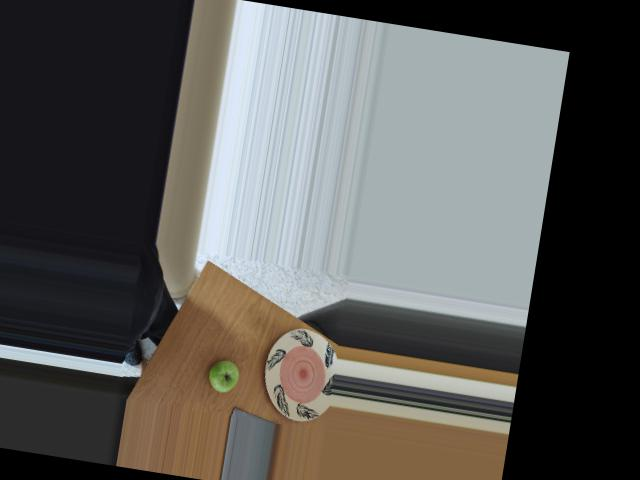apple: (199, 352, 243, 394)
